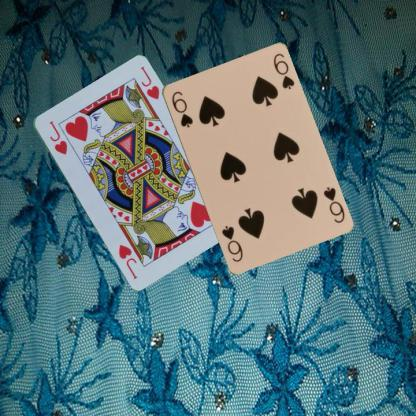6s: (320, 184, 346, 224), (169, 88, 194, 129)
Jh: (46, 118, 68, 156)
